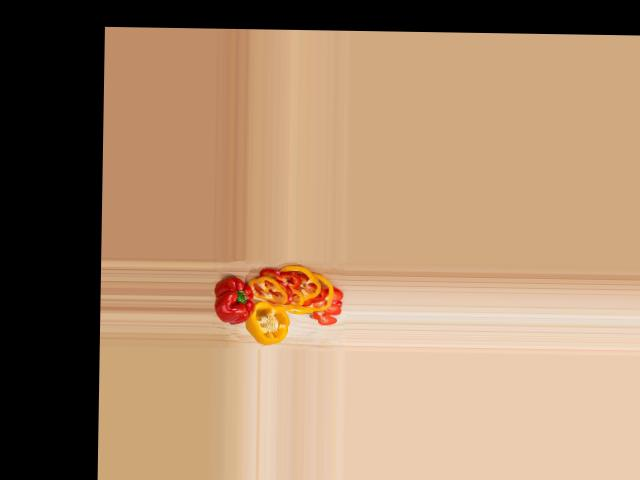bell_pepper: (247, 301, 292, 347)
